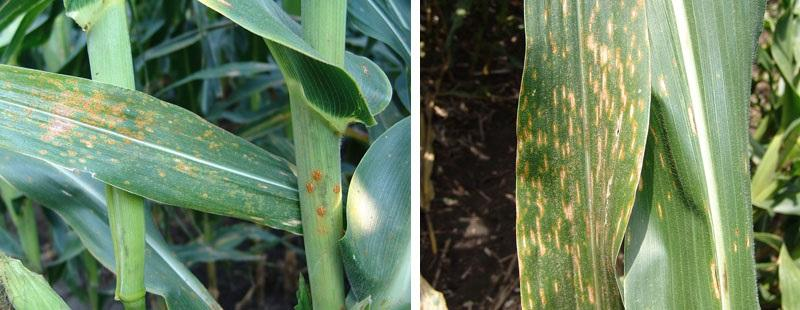Corn rust leaf: (1, 63, 296, 239)
